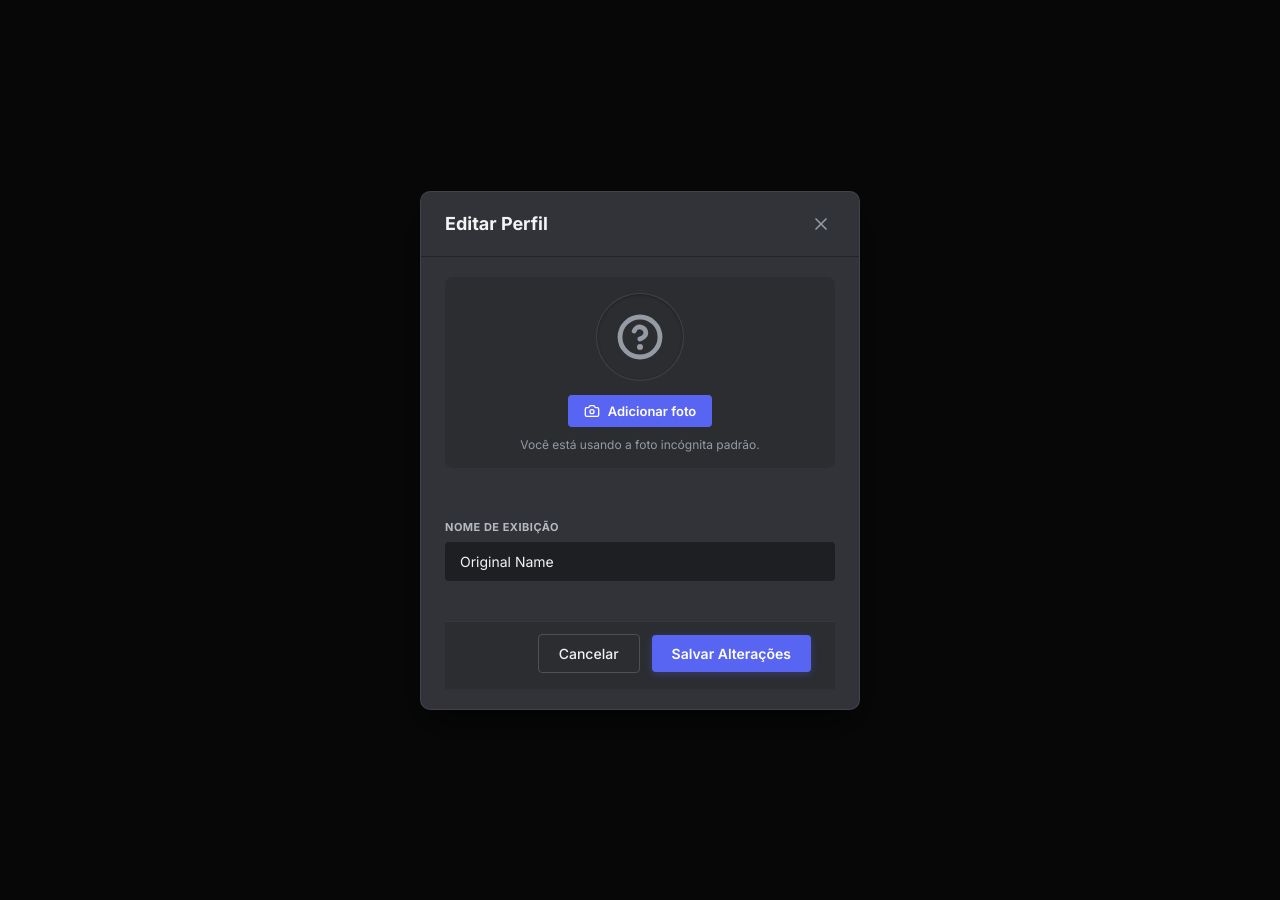
Test: EditProfileModal Component › disables submit button and shows error if form submitted with short displayName
Replace the text in the field with placeholder "Digite seu nome..." with "a" at (640, 561), box 445,542 -> 835,580
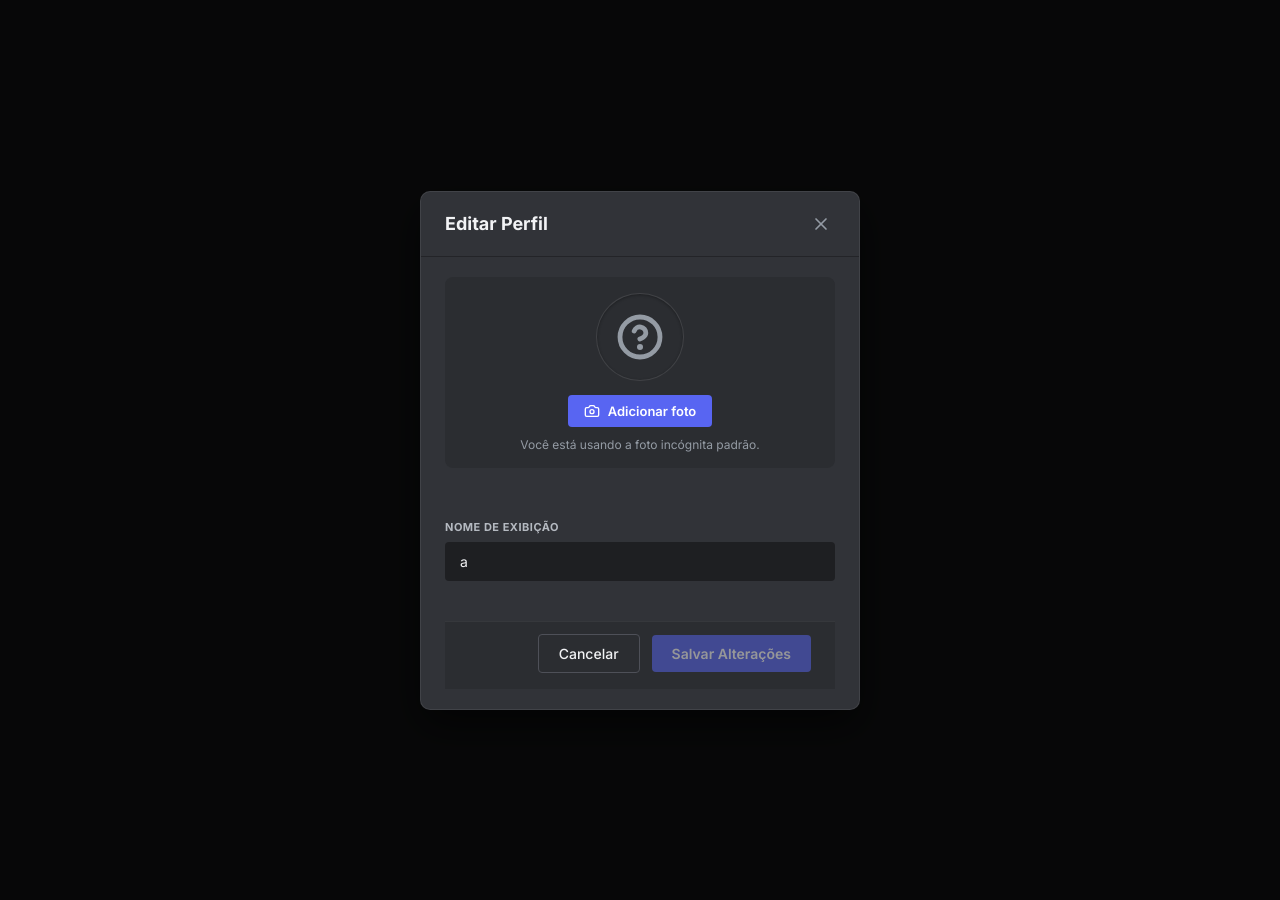
Expected: the button "Salvar Alterações" is disabled, 652,634 -> 811,672
Submit the form, box 421,256 -> 859,708
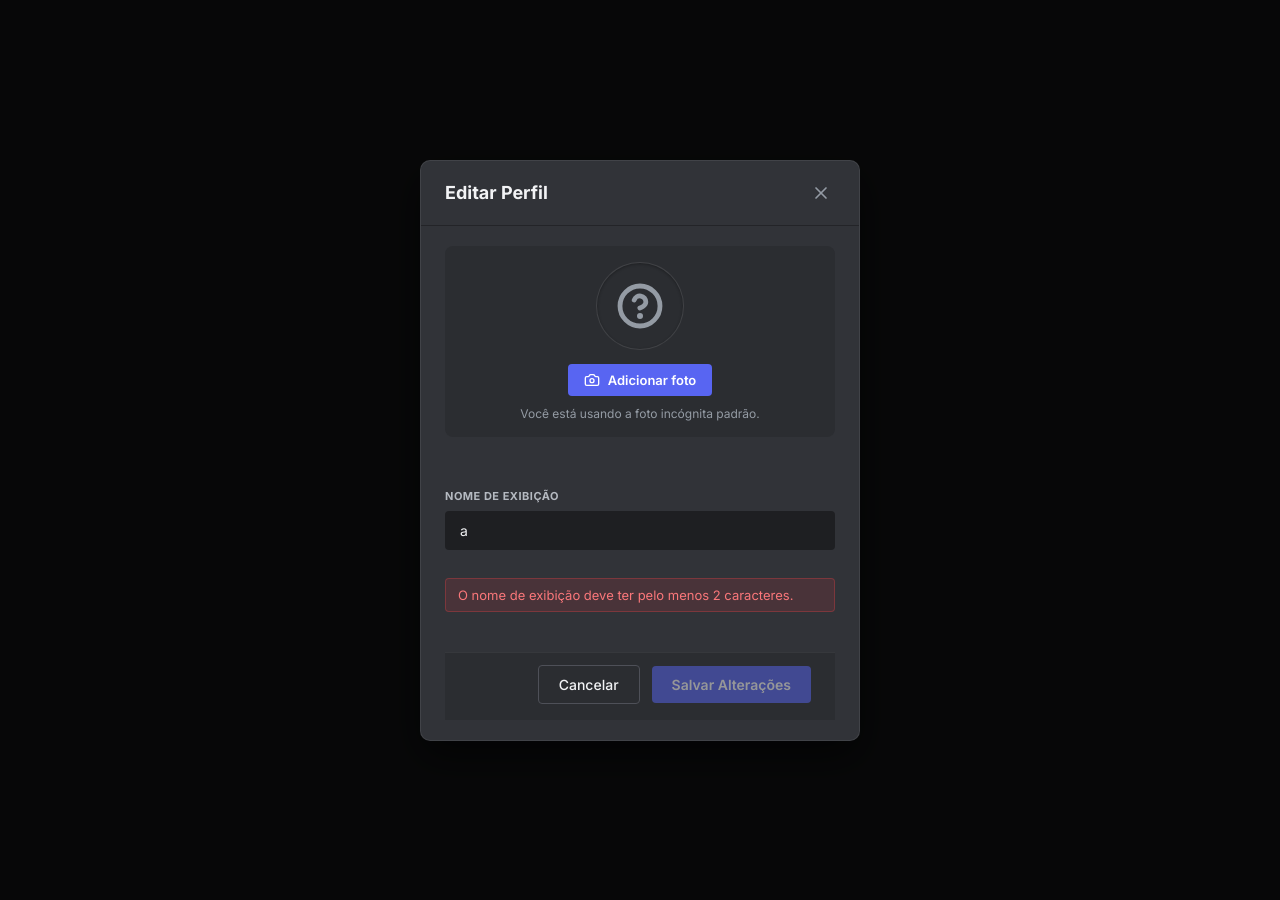
Expected: the message reads "O nome de exibição deve ter pelo menos 2 caracteres.", 458,586 -> 793,602
